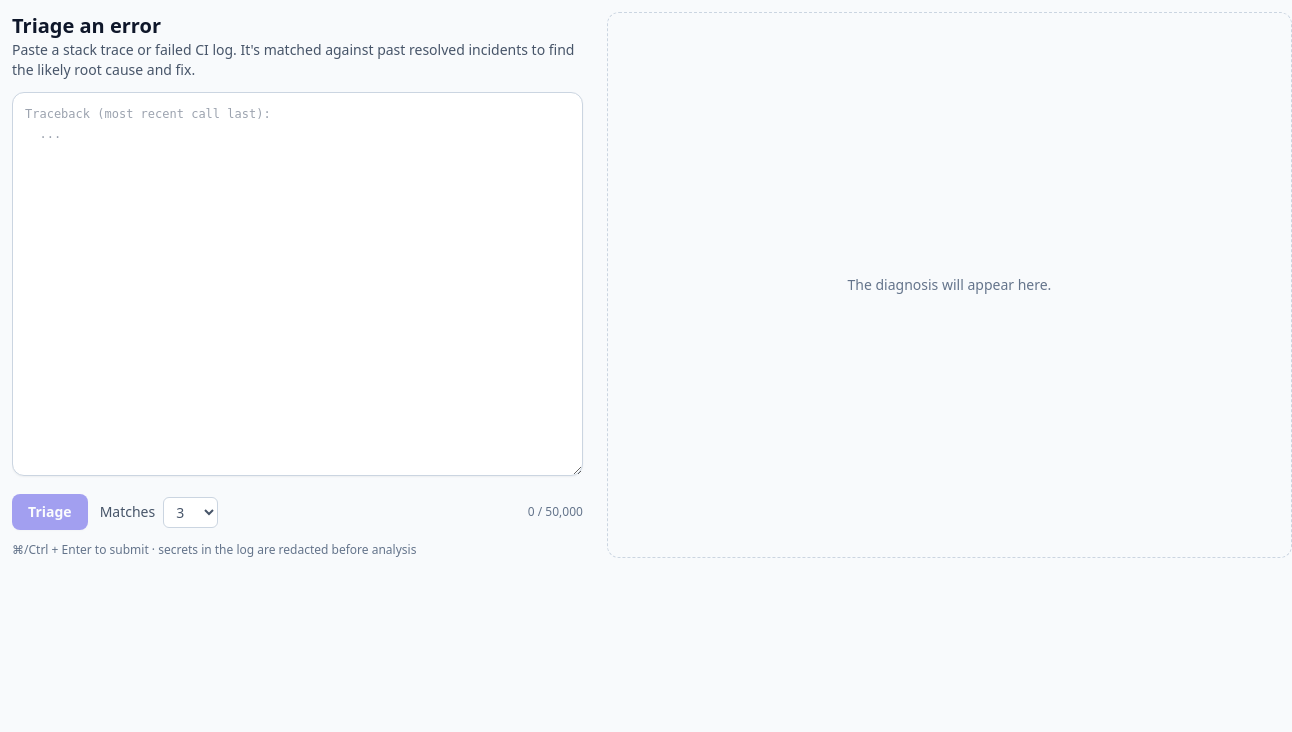
Scenario: TriagePage › keeps the button disabled until the log is long enough
Expected: the button "Triage" is disabled, [12,494,88,530]
In the text box: (297, 284) [12,92,583,476], type "short"
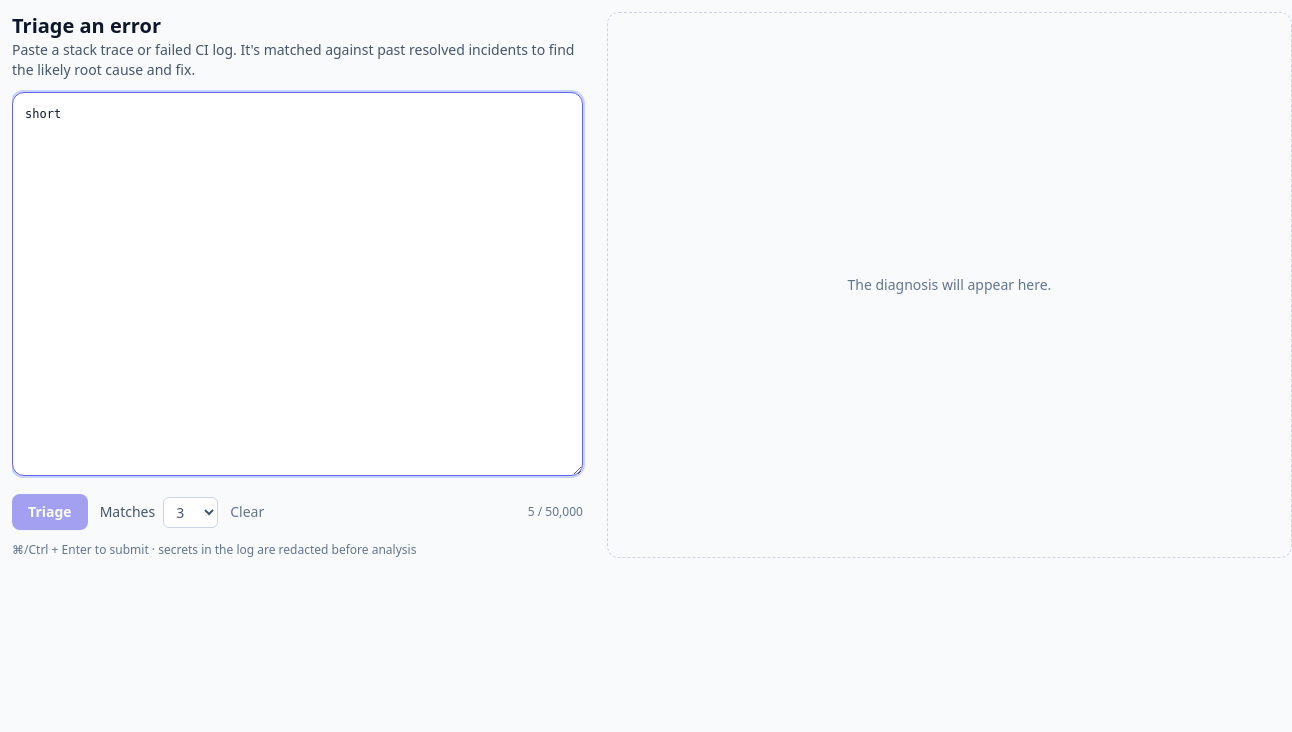
Expected: the button "Triage" is disabled, [12,494,88,530]
In the text box: (297, 284) [12,92,583,476], type " but now long enough"
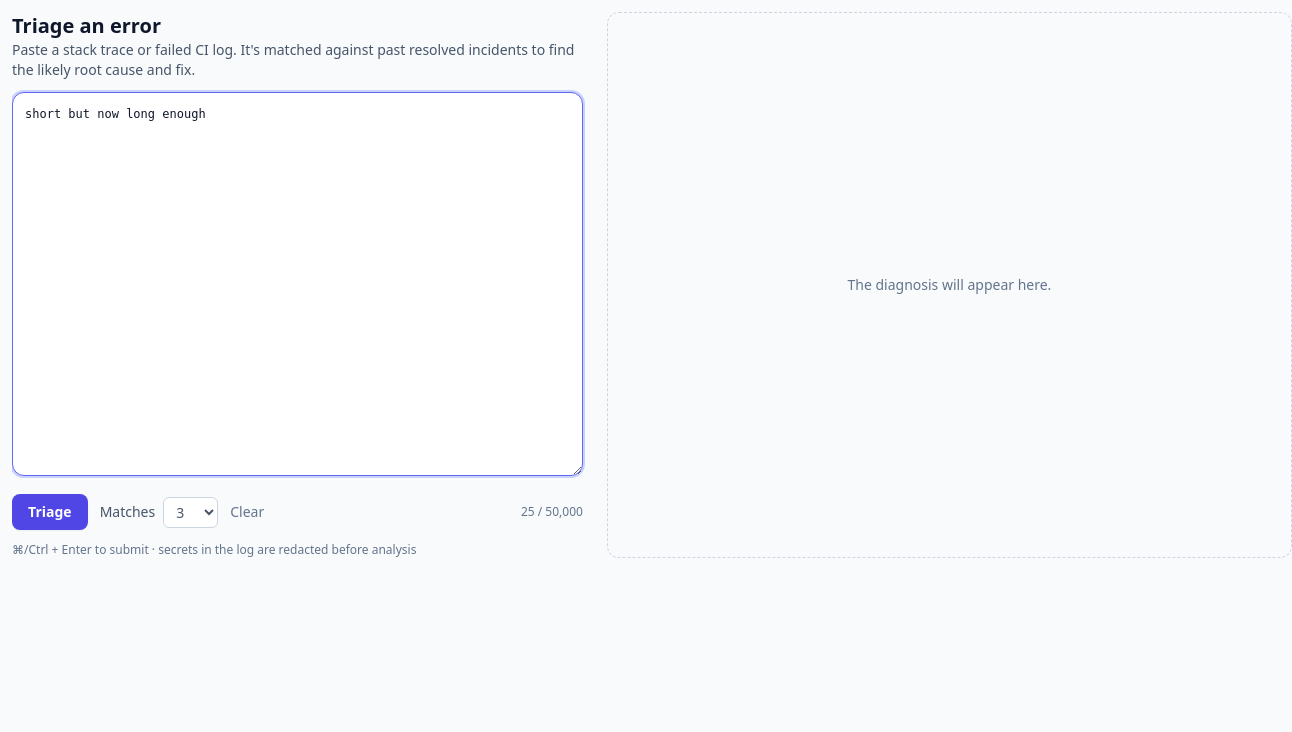
Result: the button "Triage" is enabled at [12,494,88,530]
